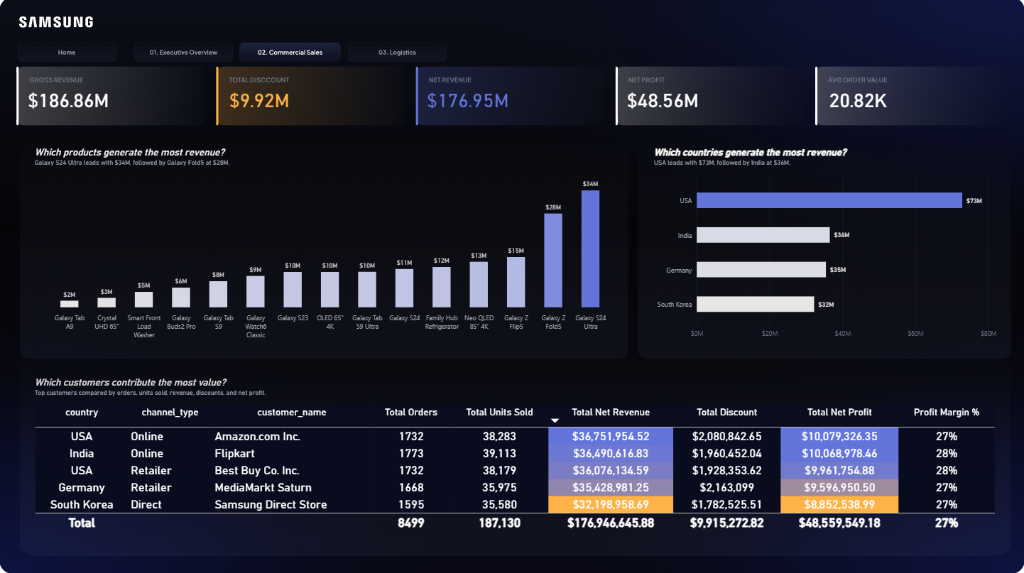

This screenshot's page, from the dashboard's own definition file:
{"tool":"powerbi","page":{"name":"02. Commercial Sales","canvas":[1920,1080],"ordinal":2},"visuals":[{"type":"image","box":[32,82,190,36],"z":0,"group":"g1"},{"type":"card","fields":{"Values":["_Measures.Total Discount"]},"box":[407.5,141.2,160,95],"z":0},{"type":"image","box":[650,82,190,36],"z":1000,"group":"g1"},{"type":"card","fields":{"Values":["_Measures.Gross Billing"]},"box":[32.5,141.2,195,95],"z":1000},{"type":"image","box":[450,82,190,36],"z":2000,"group":"g1"},{"type":"card","fields":{"Values":["_Measures.Total Net Revenue"]},"box":[780,141.2,196.2,95],"z":2000},{"type":"image","box":[250,82,190,36],"z":3000,"group":"g1"},{"type":"card","fields":{"Values":["_Measures.Total Net Profit"]},"box":[1145,141.2,195,95],"z":3000},{"type":"card","fields":{"Values":["_Measures.Avg Order Value"]},"box":[1511.2,141.2,195,95],"z":4000},{"type":"columnChart","title":"Which products generate the most revenue?","fields":{"Category":["dim_product.product_name"],"Y":["_Measures.Total Net Revenue"]},"box":[50,262.9,1118.6,392.9],"z":5000},{"type":"barChart","title":"Which countries generate the most revenue?","fields":{"Category":["dim_customer.country"],"Y":["_Measures.Total Net Revenue"]},"box":[1210,262.9,674.3,392.9],"z":6000},{"type":"tableEx","title":"Which customers contribute the most value?","fields":{"Values":["dim_customer.country","dim_customer.channel_type","dim_customer.customer_name","_Measures.Total Orders","_Measures.Total Units Sold","_Measures.Total Net Revenue","_Measures.Total Discount","_Measures.Total Net Profit","_Measures.Profit Margin %"]},"box":[50,694.3,1834.3,364.3],"z":7000},{"type":"group","id":"g1","title":"Nav sales","box":[32,82,808,36],"z":8000}]}

Visuals, with their boxes in screenshot pixels (x1, y1, x2, y2), scaled from the page's 1920x1080 canvas onto the 1024x573 screenshot:
image: region(17, 44, 118, 63)
card - _Measures.Total Discount: region(217, 75, 303, 125)
image: region(347, 44, 448, 63)
card - _Measures.Gross Billing: region(17, 75, 121, 125)
image: region(240, 44, 341, 63)
card - _Measures.Total Net Revenue: region(416, 75, 521, 125)
image: region(133, 44, 235, 63)
card - _Measures.Total Net Profit: region(611, 75, 715, 125)
card - _Measures.Avg Order Value: region(806, 75, 910, 125)
"Which products generate the most revenue?" columnChart: region(27, 139, 623, 348)
"Which countries generate the most revenue?" barChart: region(645, 139, 1005, 348)
"Which customers contribute the most value?" tableEx: region(27, 368, 1005, 562)
"Nav sales" group: region(17, 44, 448, 63)
